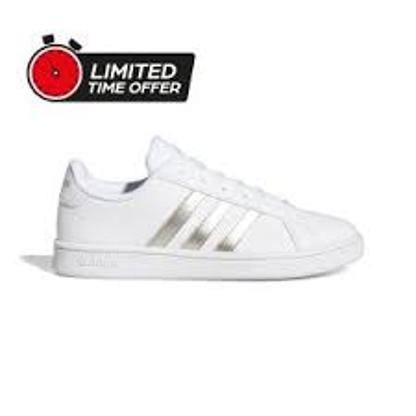not trash: (52, 133, 372, 280)
